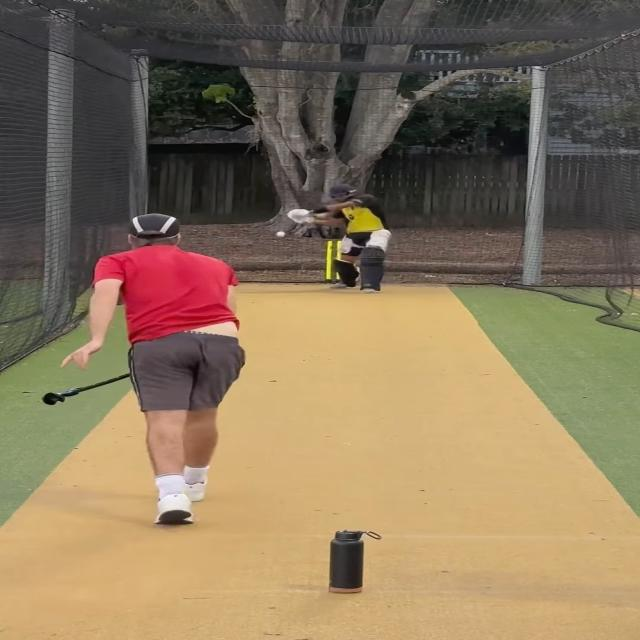Cricket ball: (275, 230, 287, 238)
